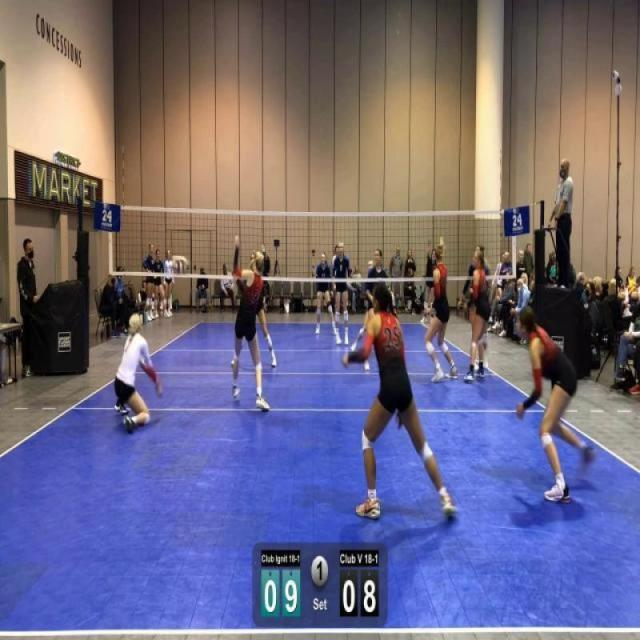volleyball: (172, 252, 190, 276)
